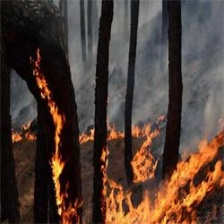fire: (84, 120, 224, 223), (32, 72, 80, 224)
